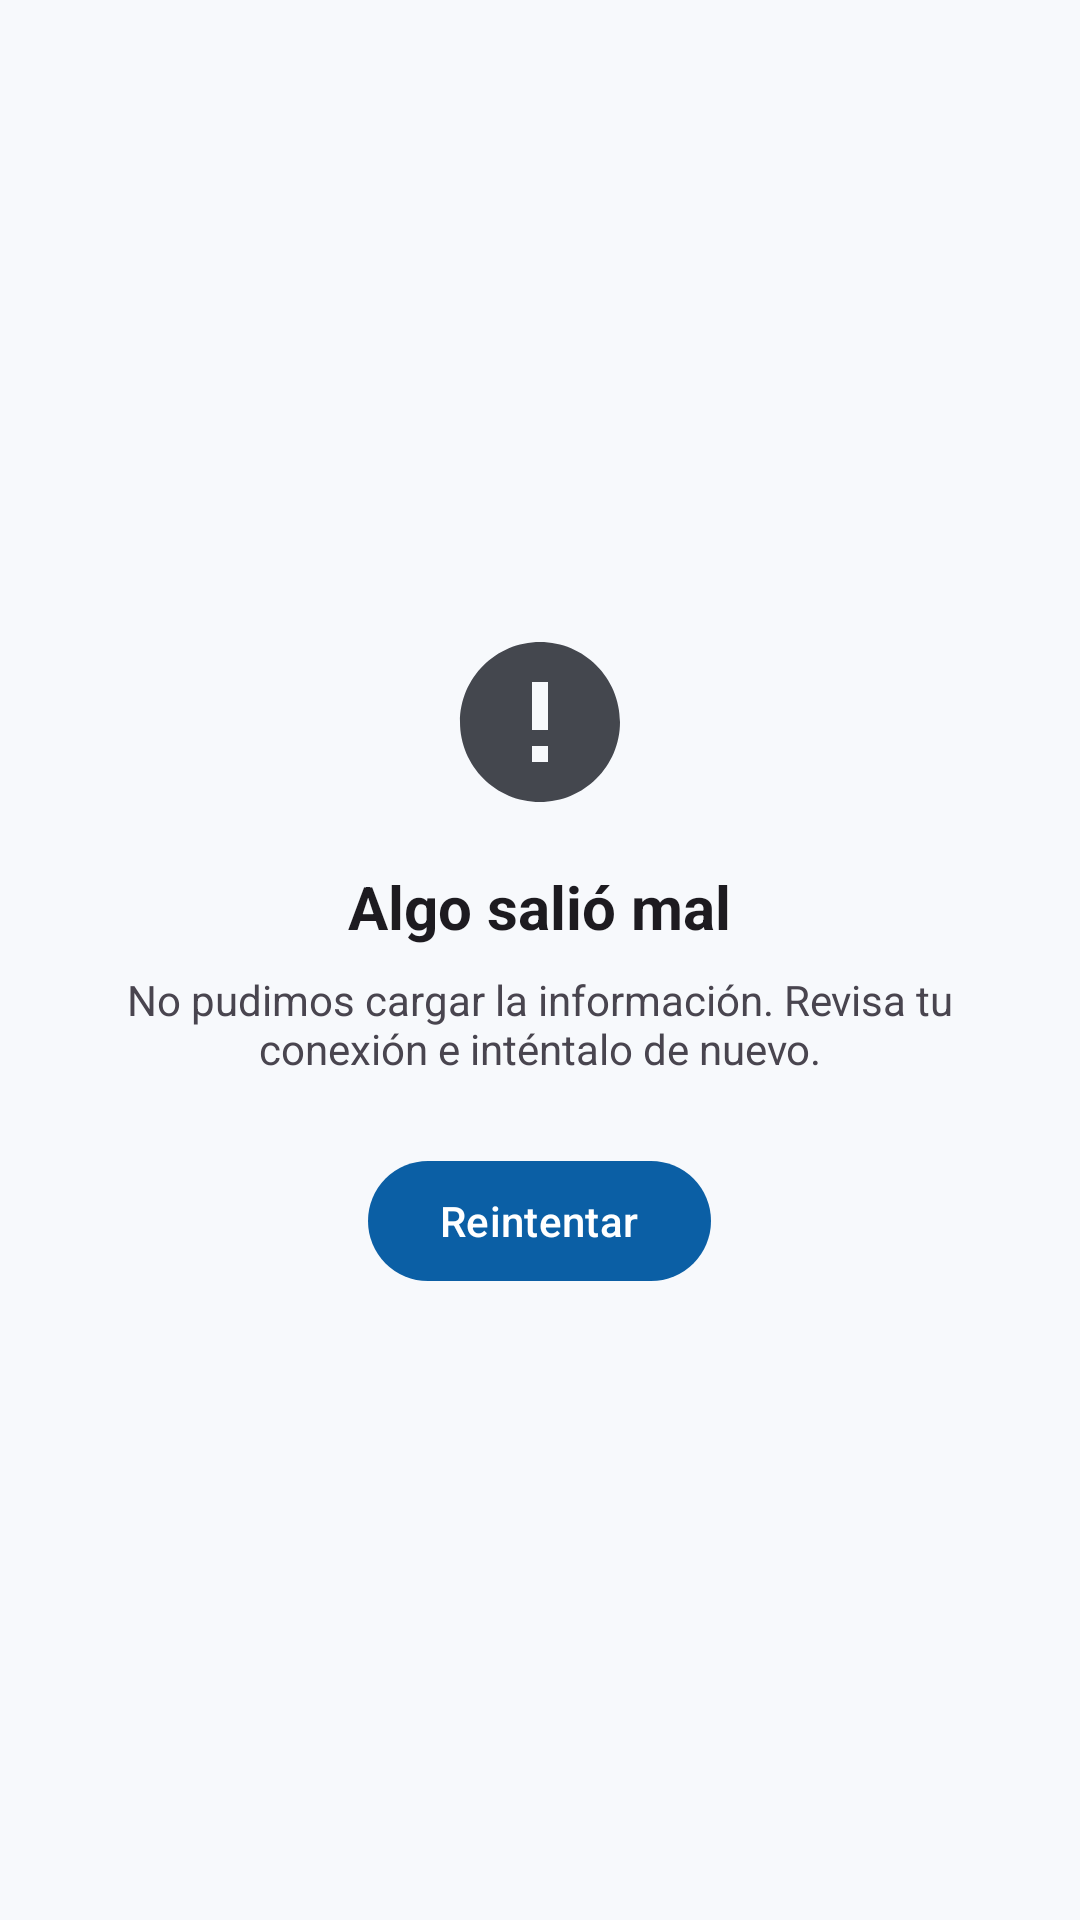

Named icons in this screenshot (1080px×1920px) and their bounding boxes, {"x1": x1, "y1": y1, "x2": x2, "y2": y2}:
Error: {"x1": 460, "y1": 642, "x2": 620, "y2": 802}
